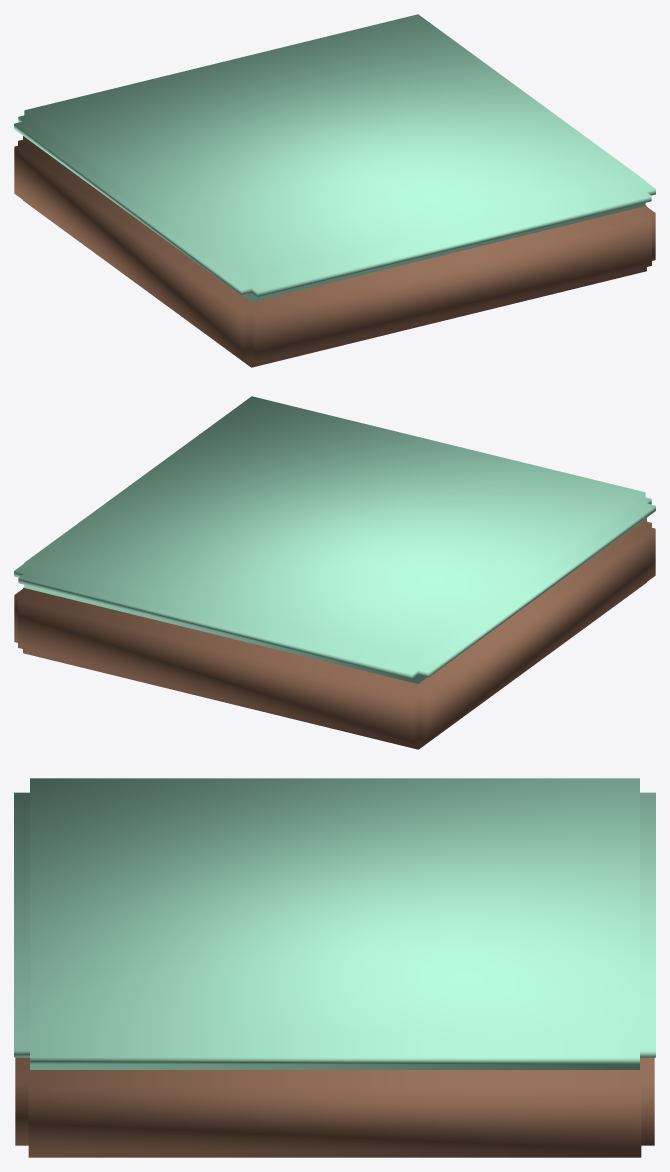
Rendered from candy_tile_mint.glb.
3 renders of one model, top to bottom at view 1: azimuth 30°, elevation 25°; view 2: azimuth 150°, elevation 25°; view 3: azimuth 270°, elevation 25°, orthographic. The views are drawn at different scales.
Visible parts, largest first — view 1: frost, body; view 2: frost, body; view 3: frost, body.
Boxes of the visible parts, left/top/right/bottom form: frost: left=14, top=14, right=655, bottom=301; body: left=14, top=136, right=655, bottom=367; frost: left=14, top=396, right=655, bottom=683; body: left=14, top=518, right=655, bottom=749; frost: left=14, top=778, right=655, bottom=1069; body: left=15, top=1057, right=654, bottom=1157.
Size of the model in its own units: 4.8 by 1 by 4.8.
